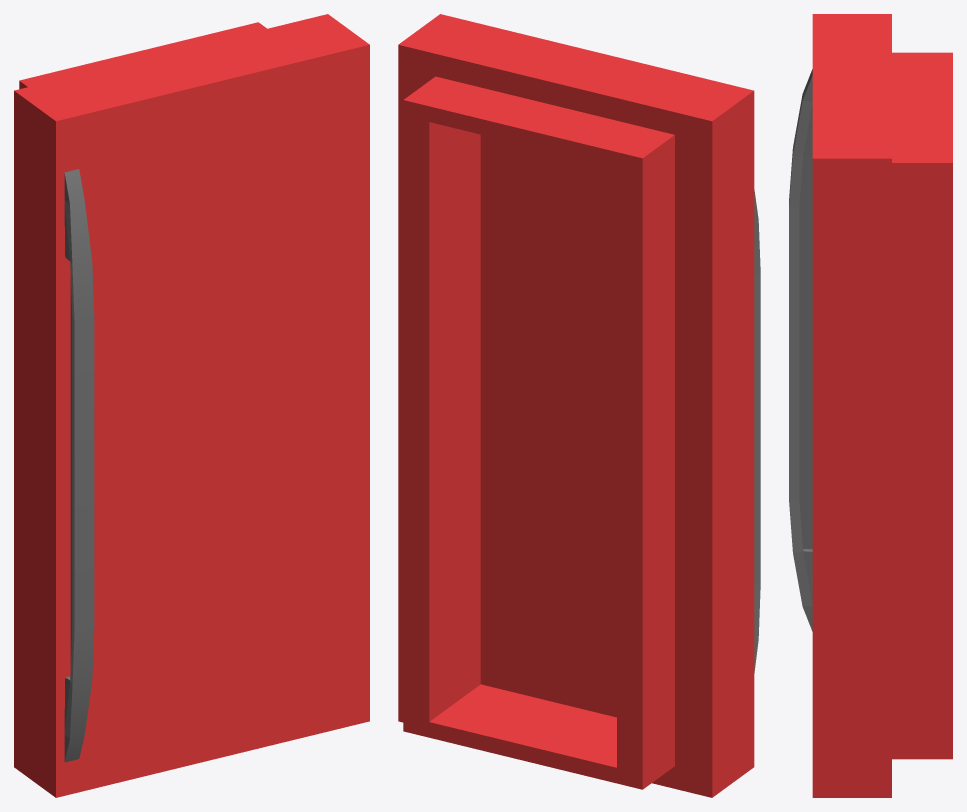
File: Itr_Obj_Fridge1_Top_Door_Right_03.FBX
3 renders of one model, left to right at view 1: azimuth 30°, elevation 25°; view 2: azimuth 150°, elevation 25°; view 3: azimuth 270°, elevation 25°, orthographic. The views are drawn at different scales.
Parts seen in each view (by area): view 1: Itr_Obj_Fridge1_Top_Door_Right_0; view 2: Itr_Obj_Fridge1_Top_Door_Right_0; view 3: Itr_Obj_Fridge1_Top_Door_Right_0.
Part boxes in pixels (<box>): Itr_Obj_Fridge1_Top_Door_Right_0: <box>14,14,369,797</box>; Itr_Obj_Fridge1_Top_Door_Right_0: <box>398,14,760,797</box>; Itr_Obj_Fridge1_Top_Door_Right_0: <box>789,14,952,797</box>.
Bounding box in the file's own units: 22.45 × 46.23 × 10.74.
